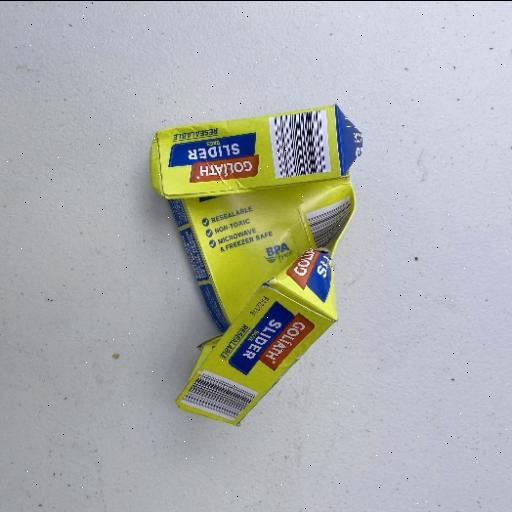Cardboard: (148, 102, 364, 428), (148, 103, 362, 199)
